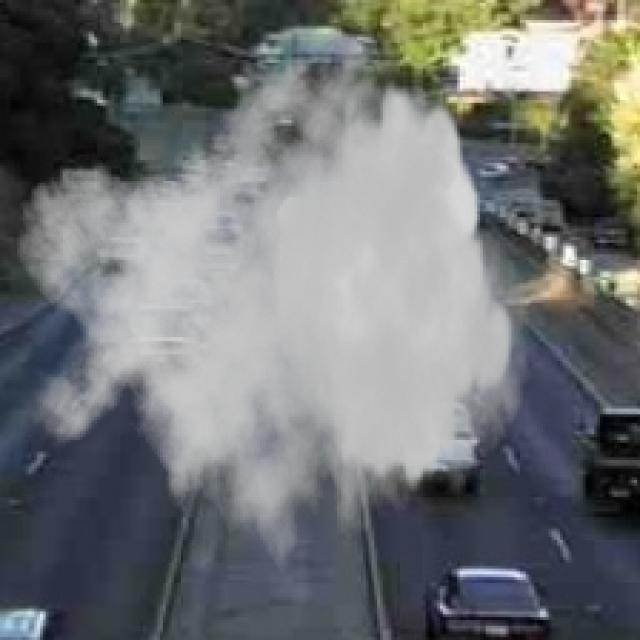smoke: (14, 29, 532, 597)
